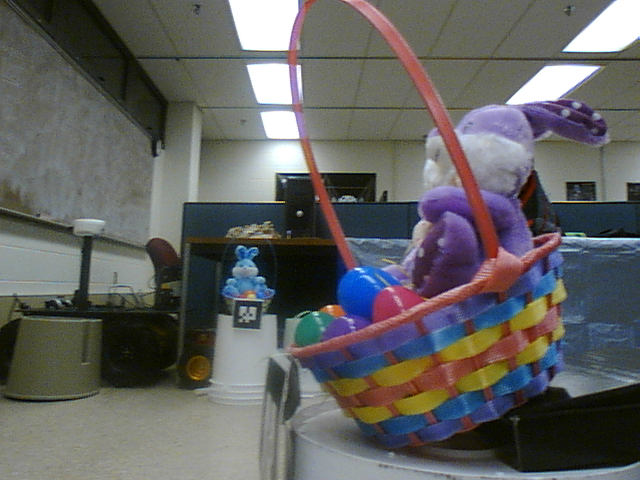bunny: (285, 2, 593, 447), (217, 226, 280, 318)
